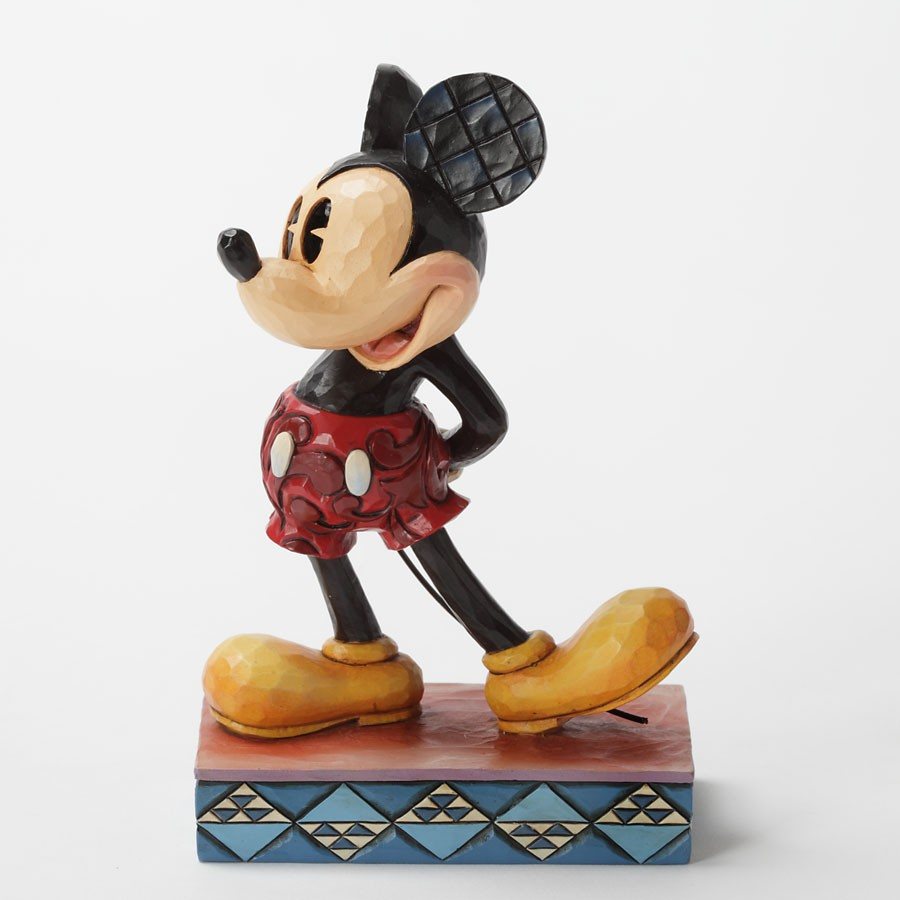Mickey: (211, 54, 560, 375)
